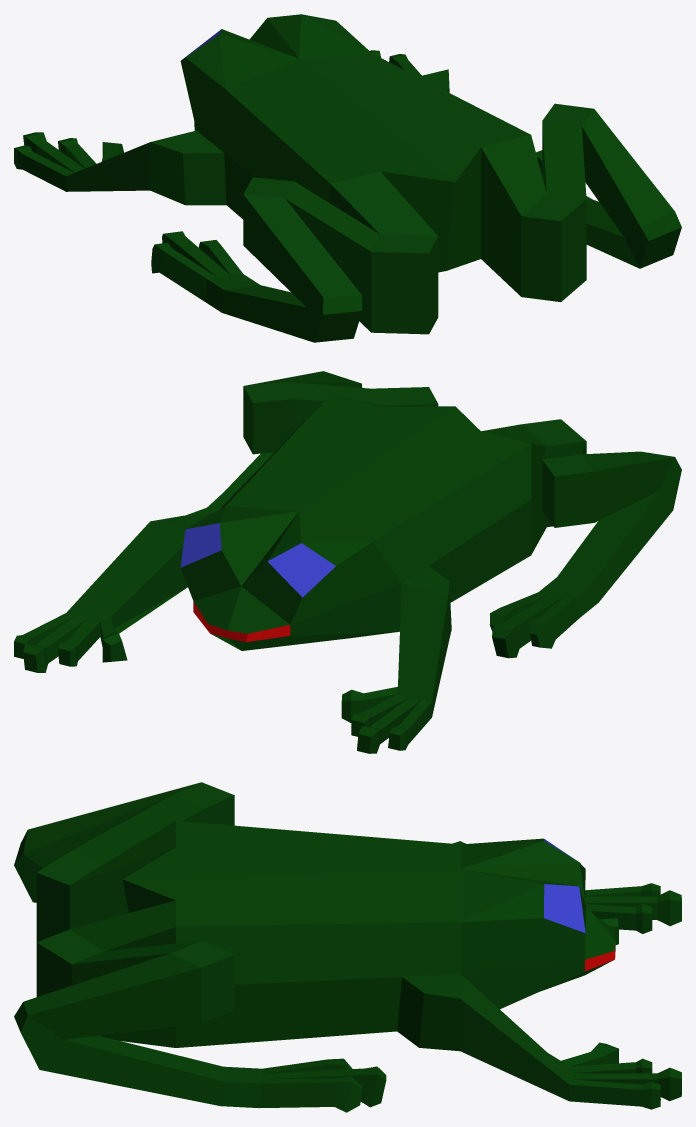
The model's file is Frog.obj.
3 views of the same model, one above another, from view 1: azimuth 30°, elevation 25°; view 2: azimuth 150°, elevation 25°; view 3: azimuth 270°, elevation 25° (orthographic). The views are drawn at different scales.
Parts seen in each view (by area): view 1: Frog; view 2: Frog; view 3: Frog.
Part boxes in pixels (left/top/right/bottom): Frog: left=14, top=14, right=681, bottom=342; Frog: left=14, top=371, right=681, bottom=753; Frog: left=14, top=782, right=681, bottom=1112.
Bounding box in the file's own units: 3.13 × 1.06 × 4.19.
